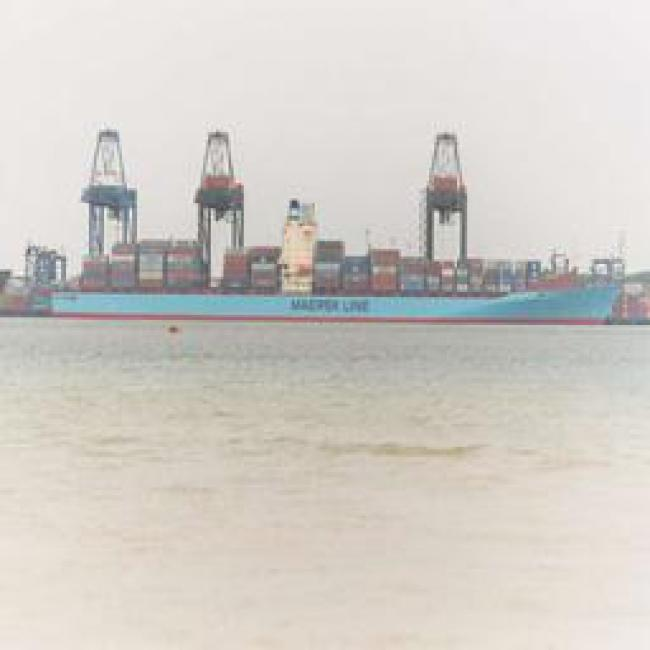Ship: (3, 222, 617, 337)
